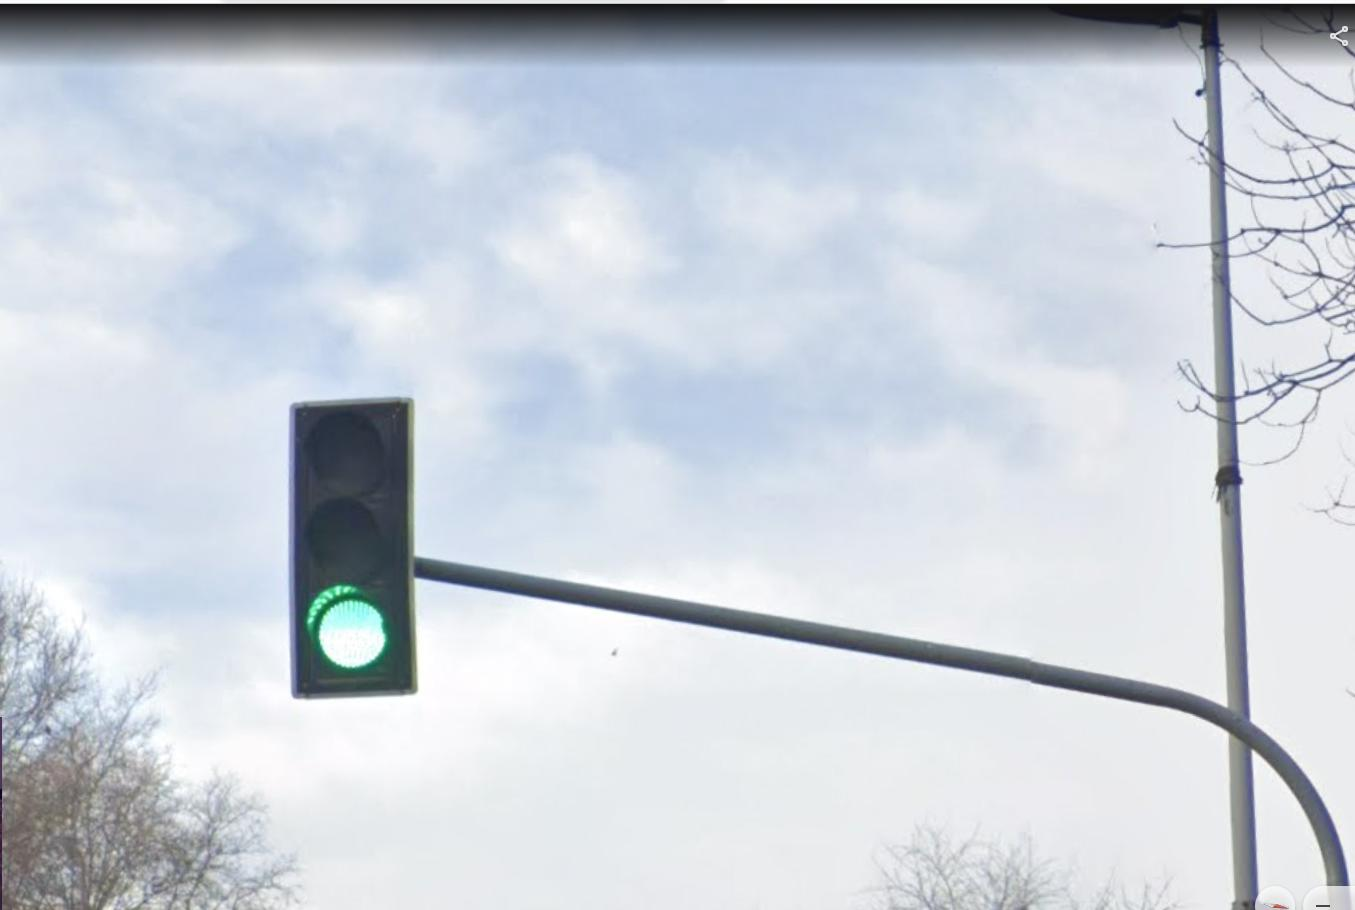greenlight: (292, 404, 413, 681)
